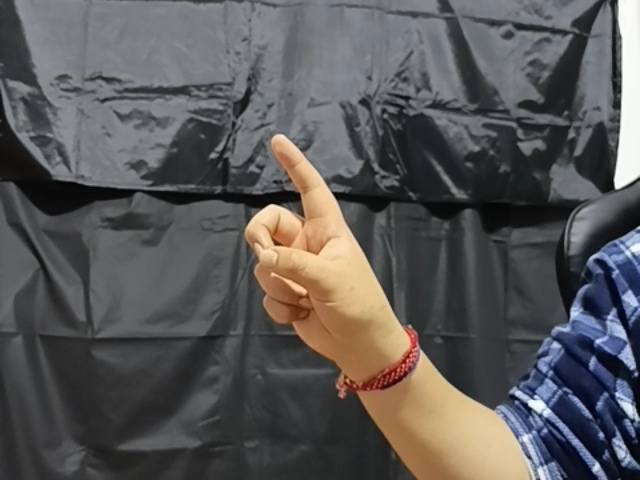D: (242, 133, 396, 352)
